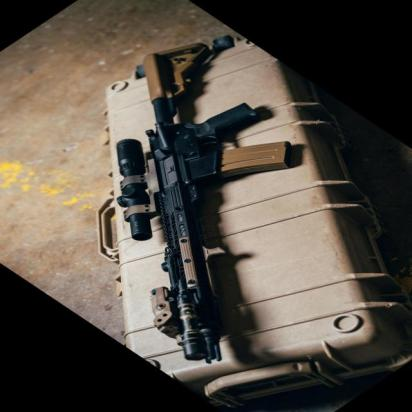Gun: (115, 42, 299, 367)
